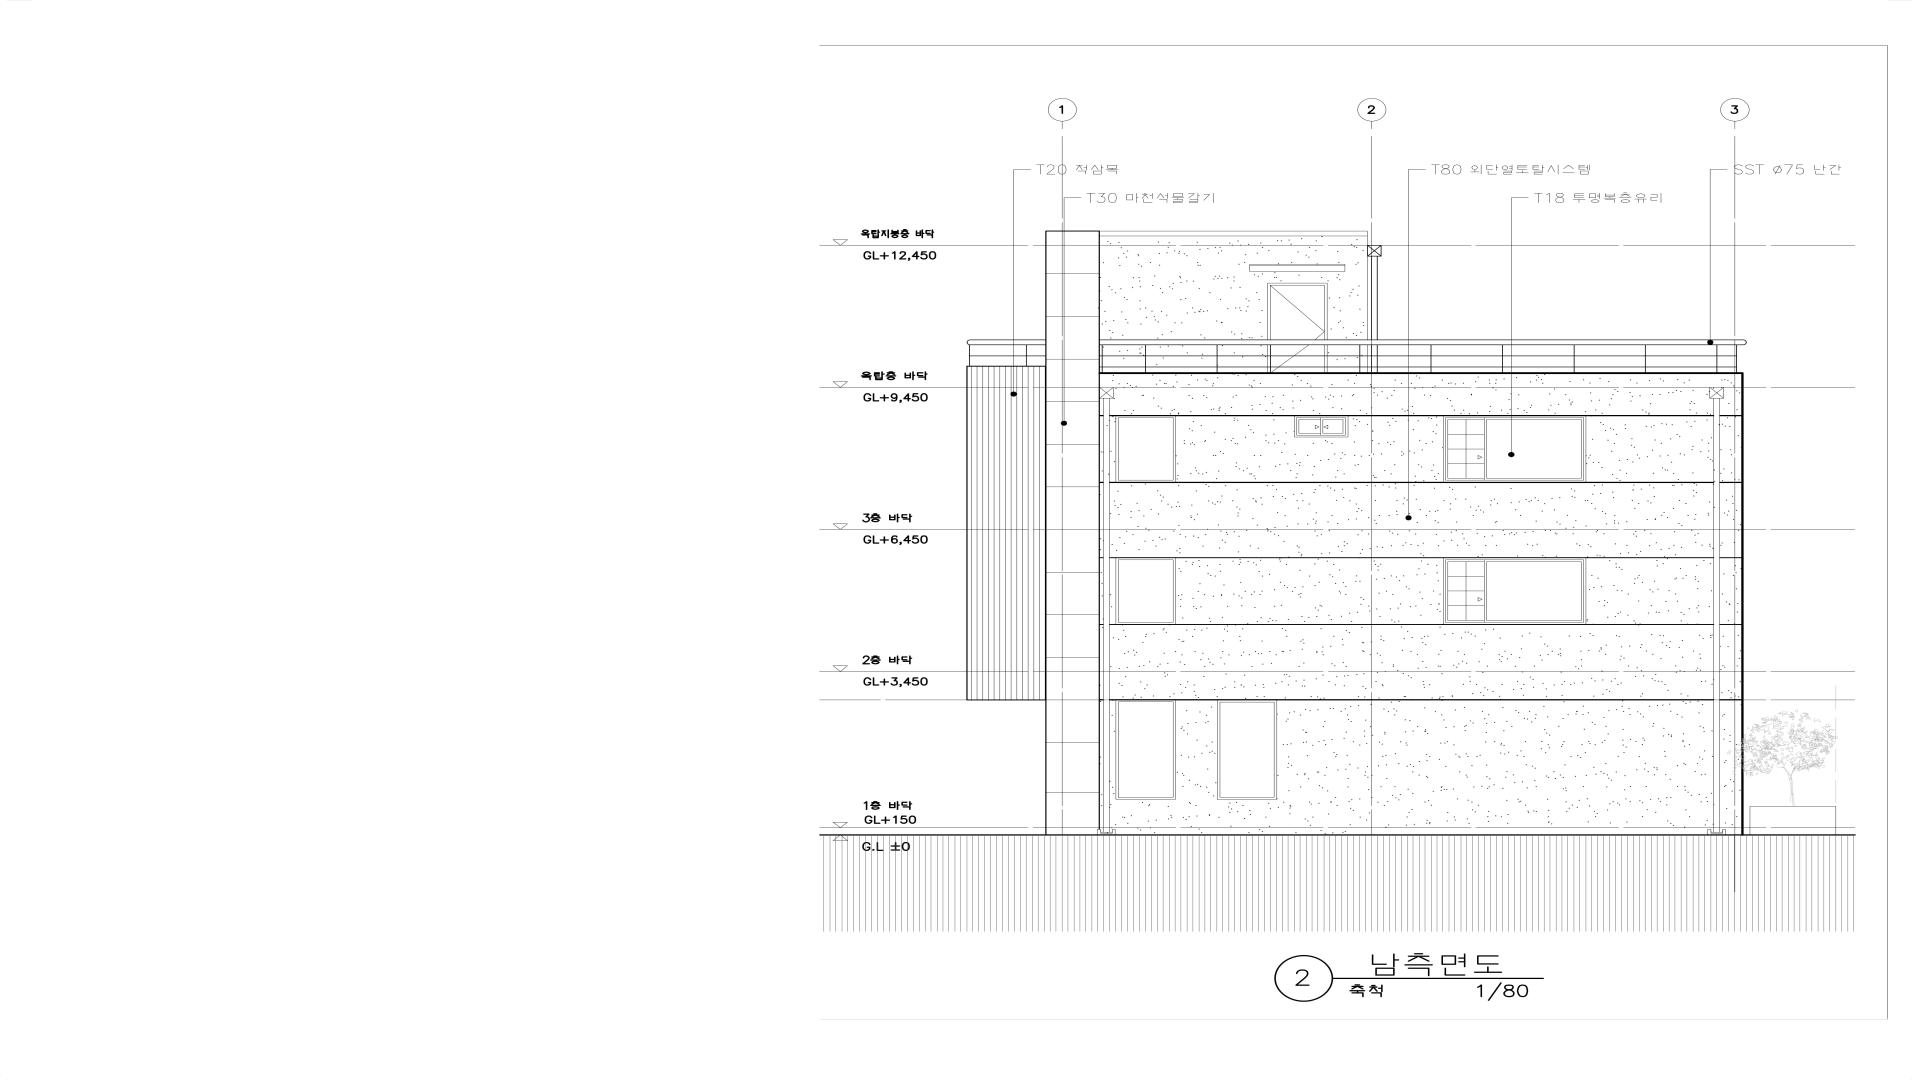door: (1267, 282, 1327, 373)
wall: (967, 231, 1745, 836)
window: (1443, 558, 1586, 625), (1443, 417, 1586, 483), (1116, 699, 1176, 799), (1217, 699, 1278, 799), (1116, 415, 1176, 483), (1116, 558, 1176, 625), (1294, 417, 1348, 436)
